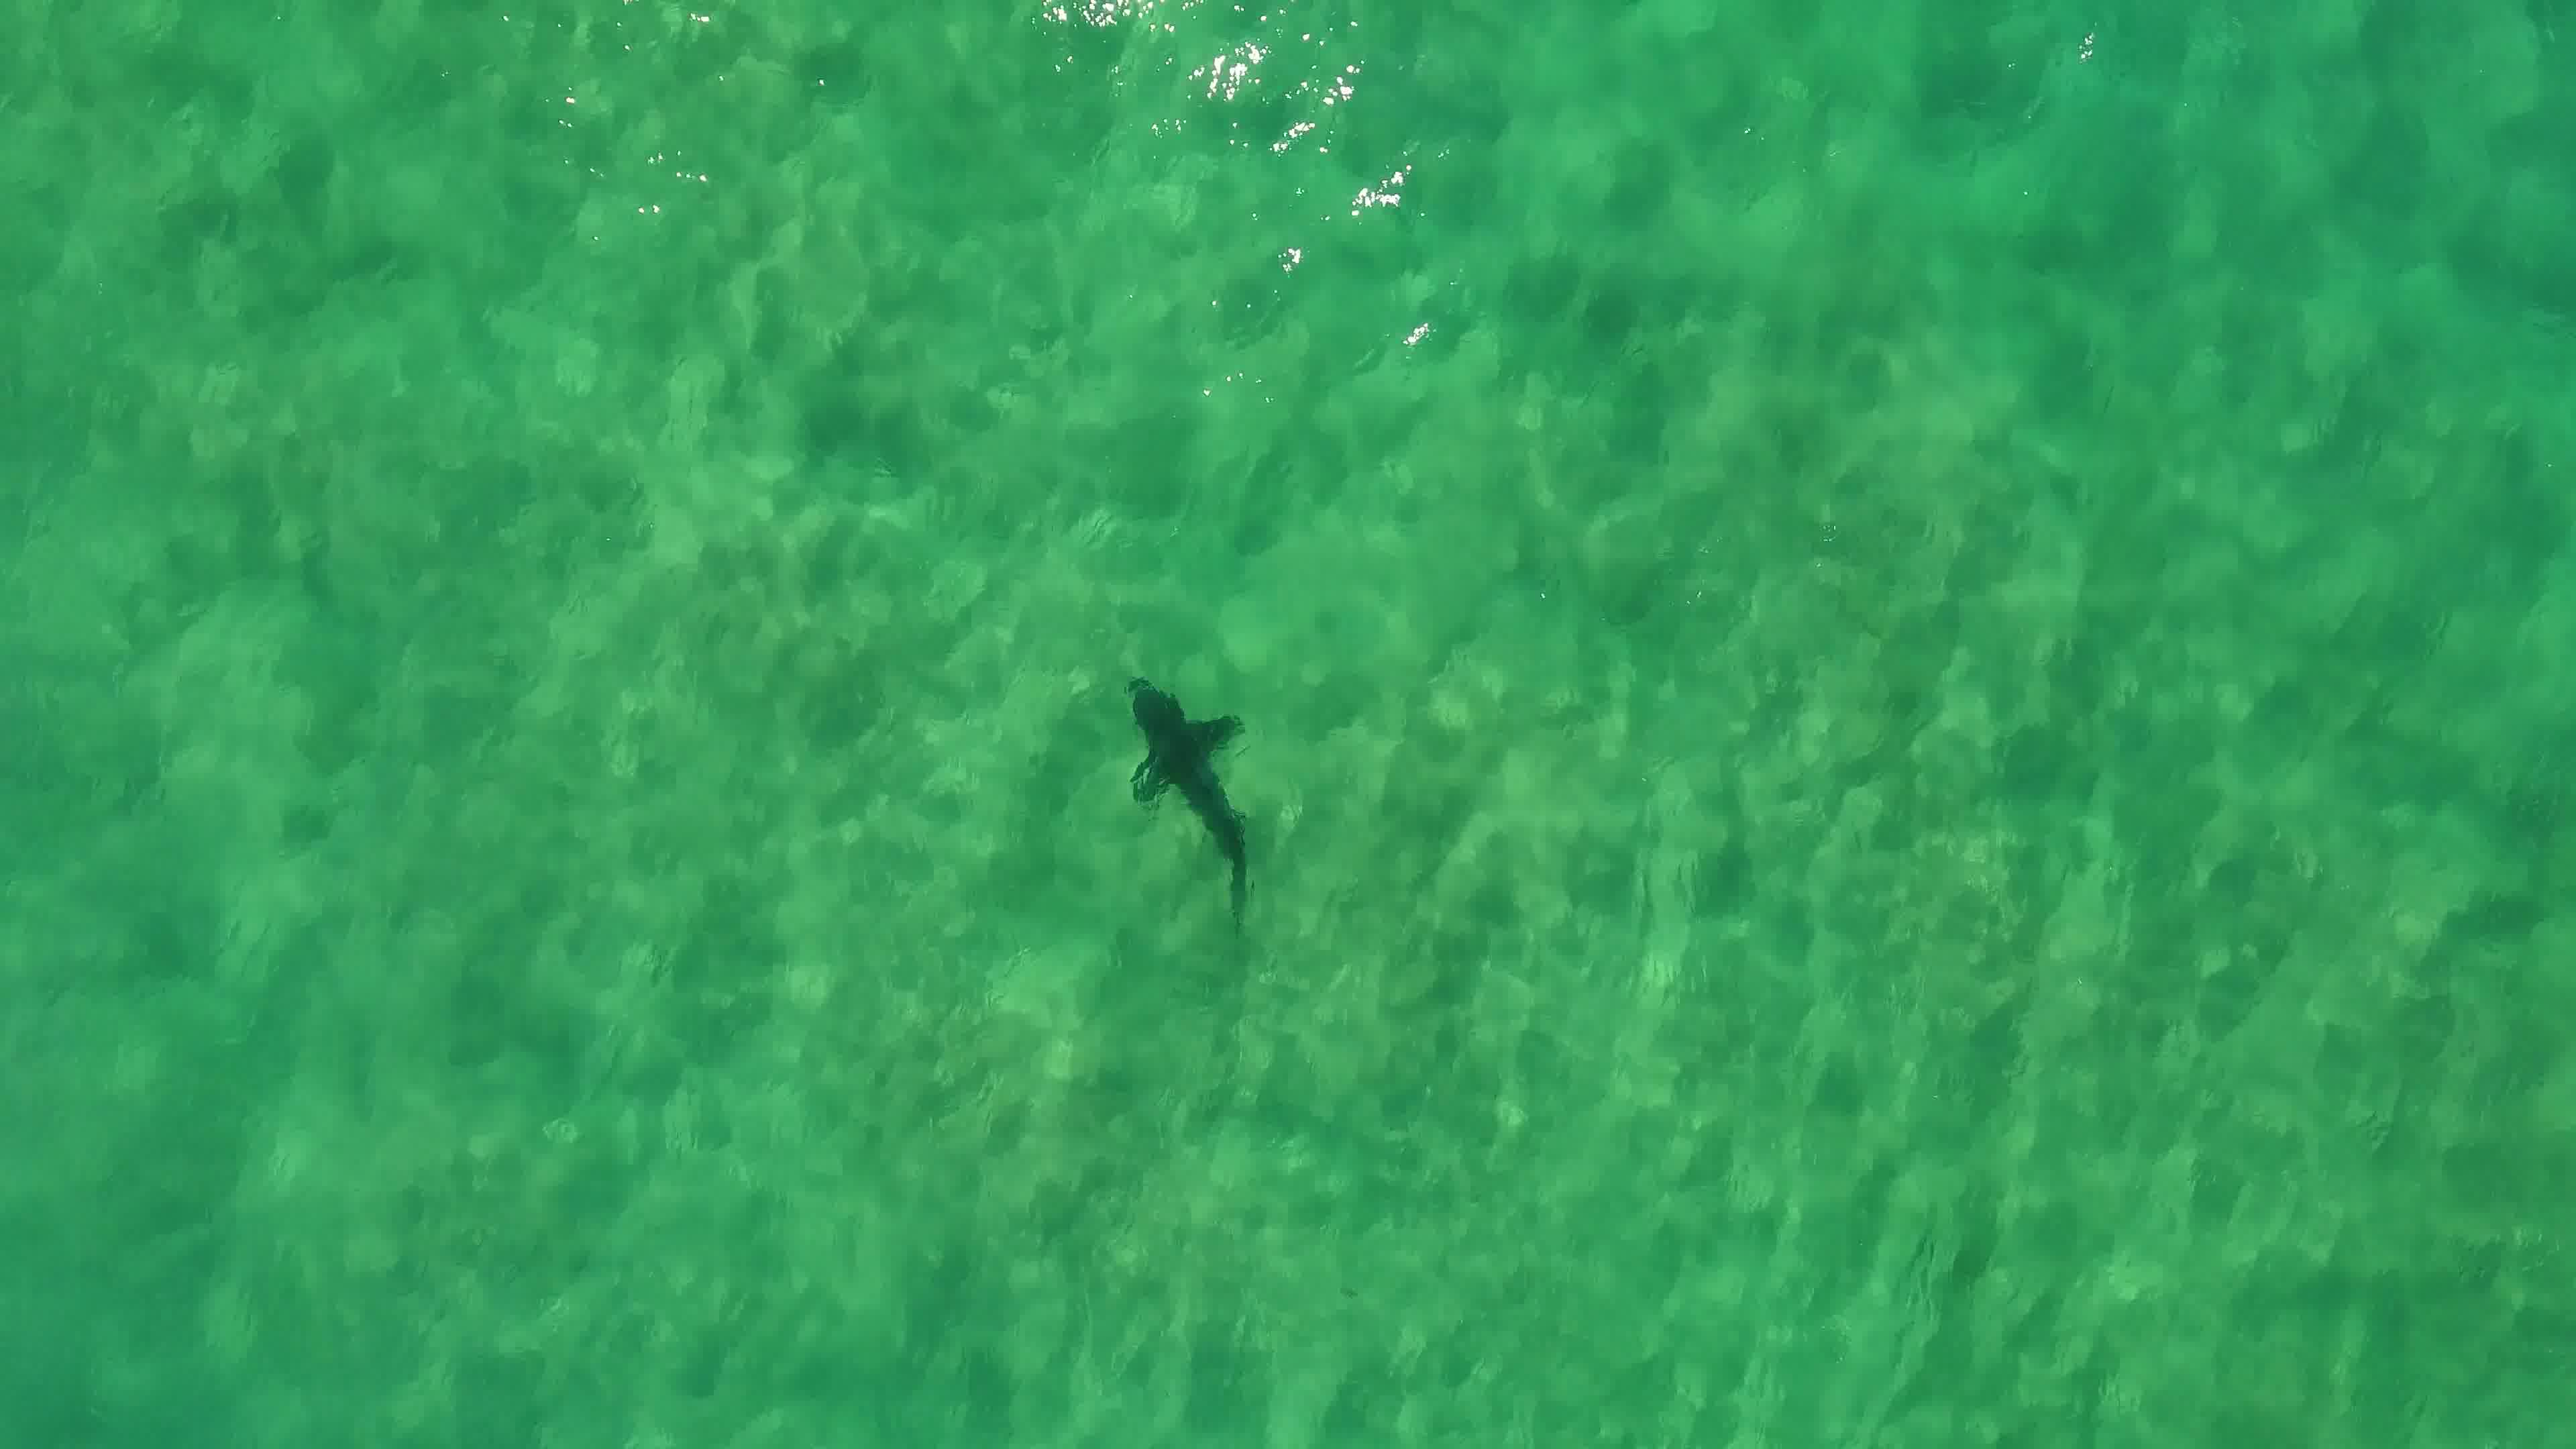shark: (1122, 676, 1284, 931)
